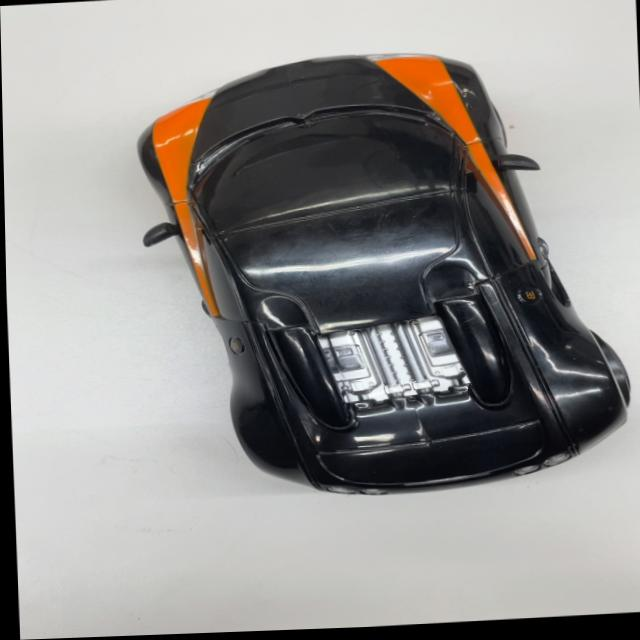vehicle_body: (129, 37, 628, 504)
